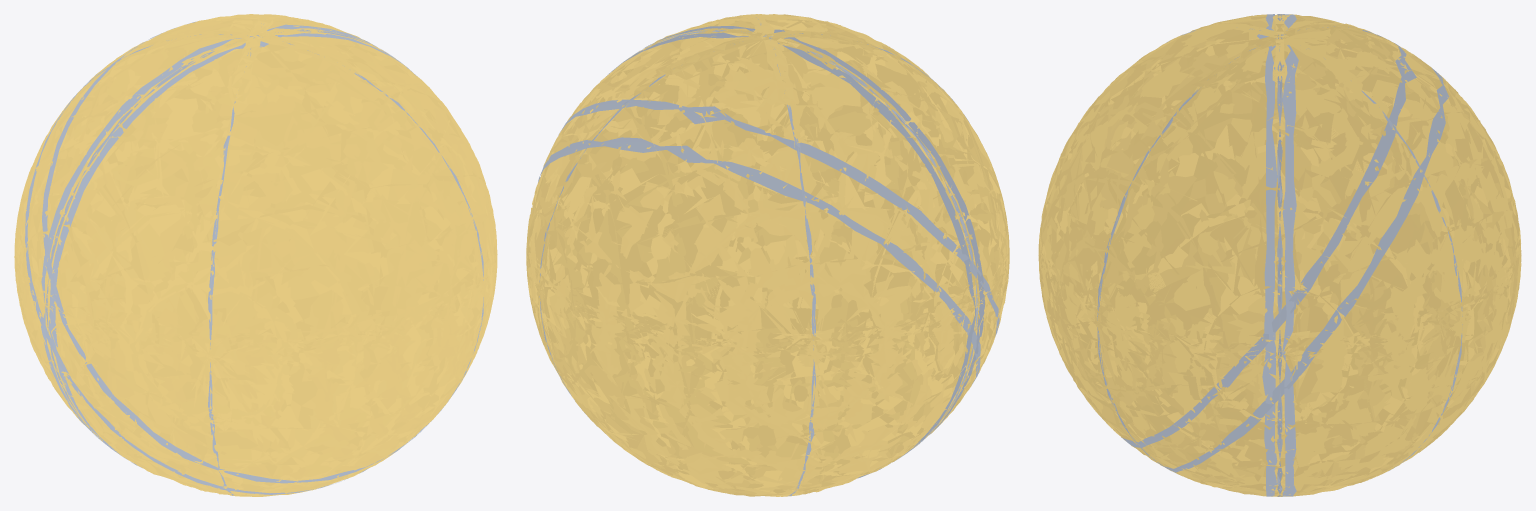
3 views of the same model, side by side, from view 1: azimuth 30°, elevation 25°; view 2: azimuth 150°, elevation 25°; view 3: azimuth 270°, elevation 25° (orthographic).
Visible parts, largest first — view 1: anodes, structure; view 2: anodes, structure; view 3: anodes, structure.
Part boxes in pixels (bbox=[...]): anodes: bbox=[14, 14, 497, 496]; structure: bbox=[25, 21, 483, 495]; anodes: bbox=[526, 14, 1009, 496]; structure: bbox=[538, 17, 999, 495]; anodes: bbox=[1038, 14, 1521, 496]; structure: bbox=[1097, 14, 1462, 496].
Bounding box in the file's own units: 2 × 2 × 2.
